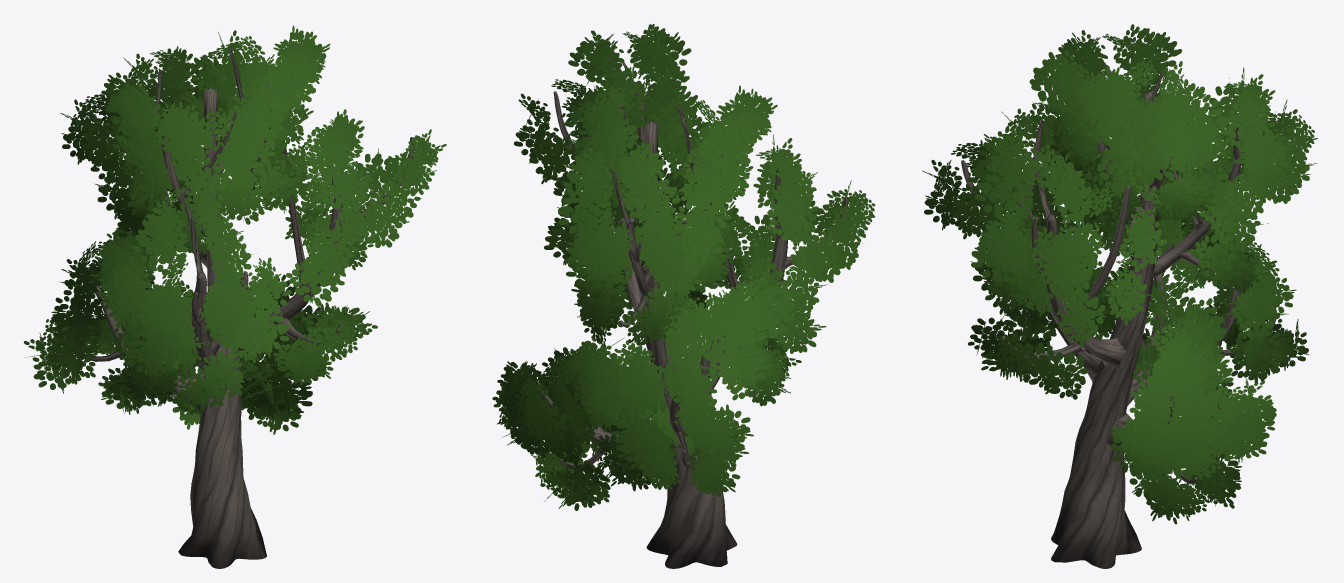
File: twisted_3.glb
The picture shows the model from 3 angles, left to right: view 1: azimuth 30°, elevation 25°; view 2: azimuth 150°, elevation 25°; view 3: azimuth 270°, elevation 25°; orthographic projection. The views are drawn at different scales.
Visible parts, largest first — view 1: TwistedTree_3; view 2: TwistedTree_3; view 3: TwistedTree_3.
Boxes of the visible parts, x1,y1,x2,y2 form: TwistedTree_3: (23, 25, 446, 568); TwistedTree_3: (492, 24, 875, 568); TwistedTree_3: (922, 24, 1317, 568).
Bounding box in the file's own units: 11.33 × 16.07 × 11.37.
Materials: 2 (2 with a texture image).
